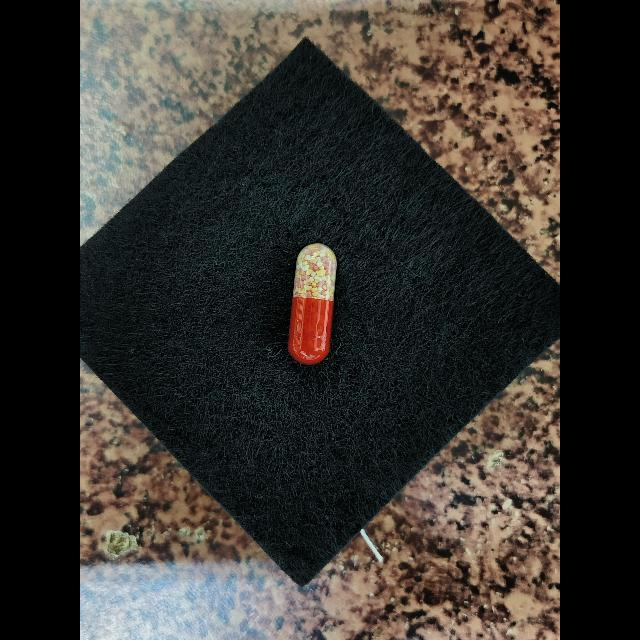Intact Capsule: (288, 243, 337, 364)
